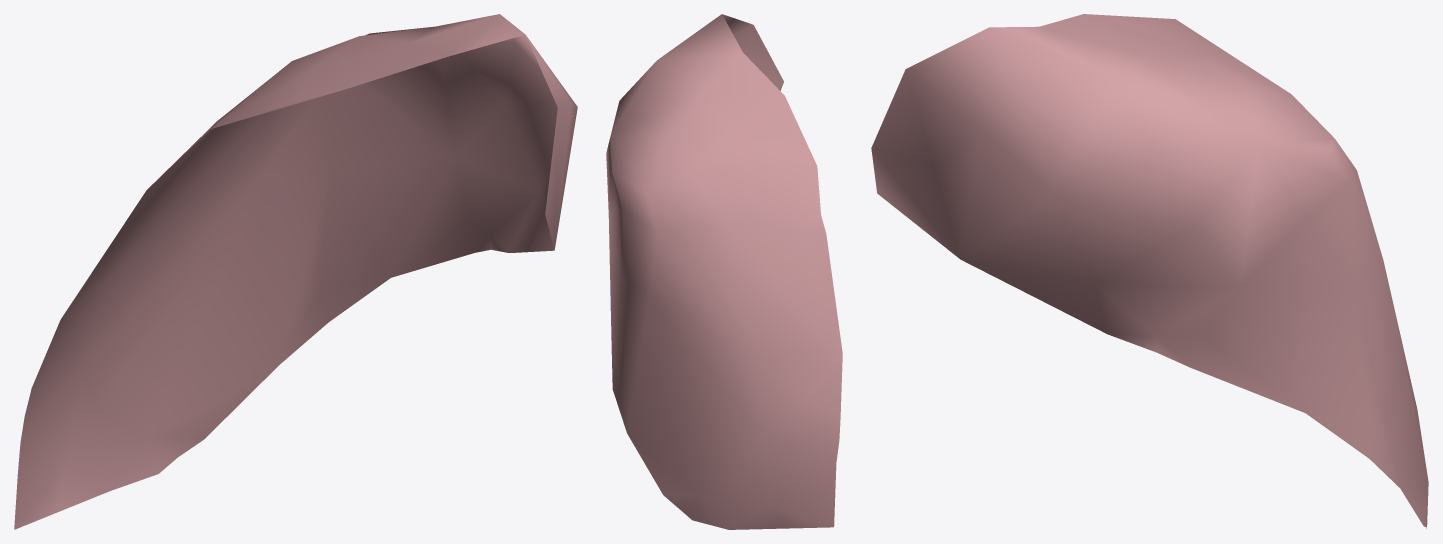
3 renders of one model, left to right at view 1: azimuth 30°, elevation 25°; view 2: azimuth 150°, elevation 25°; view 3: azimuth 270°, elevation 25°, orthographic. The views are drawn at different scales.
Parts seen in each view (by area): view 1: ZA_c3d5ca1d19eaaa3c; view 2: ZA_c3d5ca1d19eaaa3c; view 3: ZA_c3d5ca1d19eaaa3c.
Boxes of the visible parts, x1,y1,x2,y2 form: ZA_c3d5ca1d19eaaa3c: (14, 14, 577, 529); ZA_c3d5ca1d19eaaa3c: (606, 14, 842, 529); ZA_c3d5ca1d19eaaa3c: (871, 14, 1428, 528).
Bounding box in the file's own units: 0.0095 × 0.012 × 0.0102.
